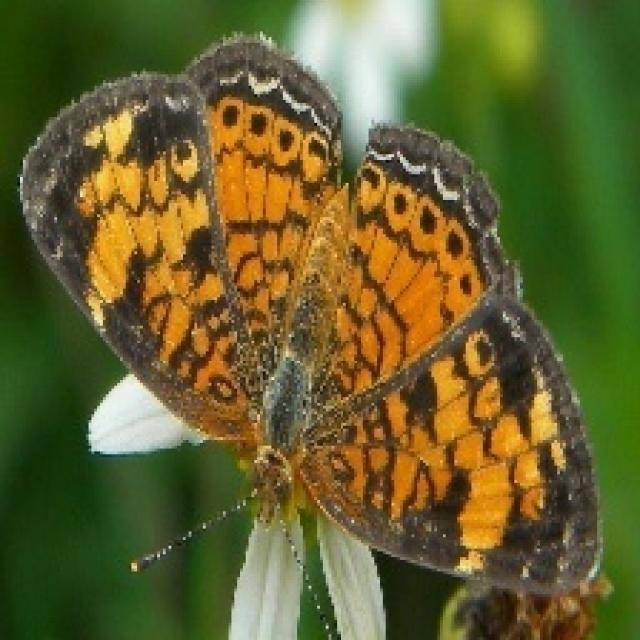butterfly: (14, 29, 603, 637)
